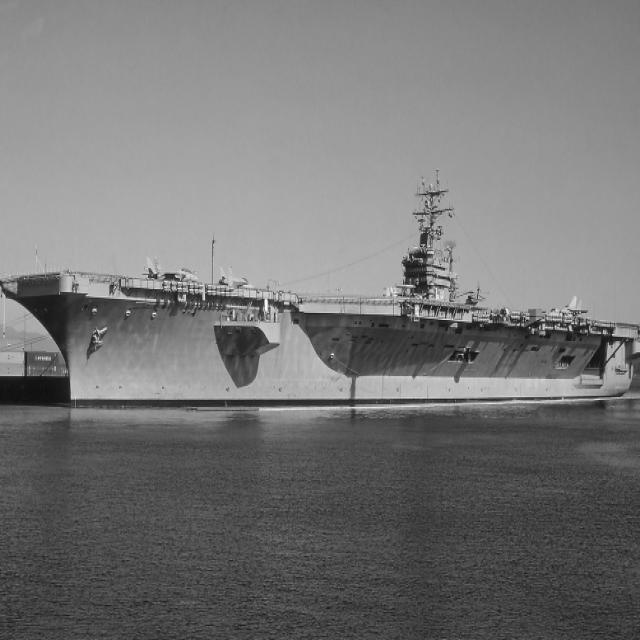Portanaves: (1, 163, 640, 414)
